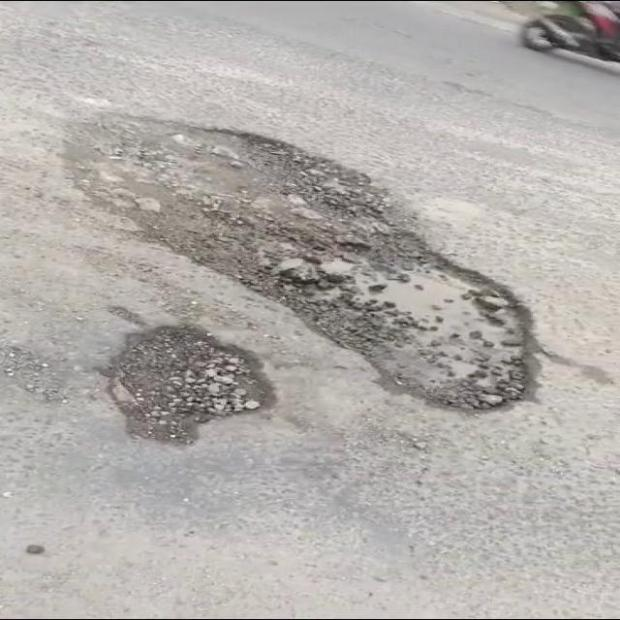lubang: (63, 114, 530, 409), (109, 326, 272, 442)
